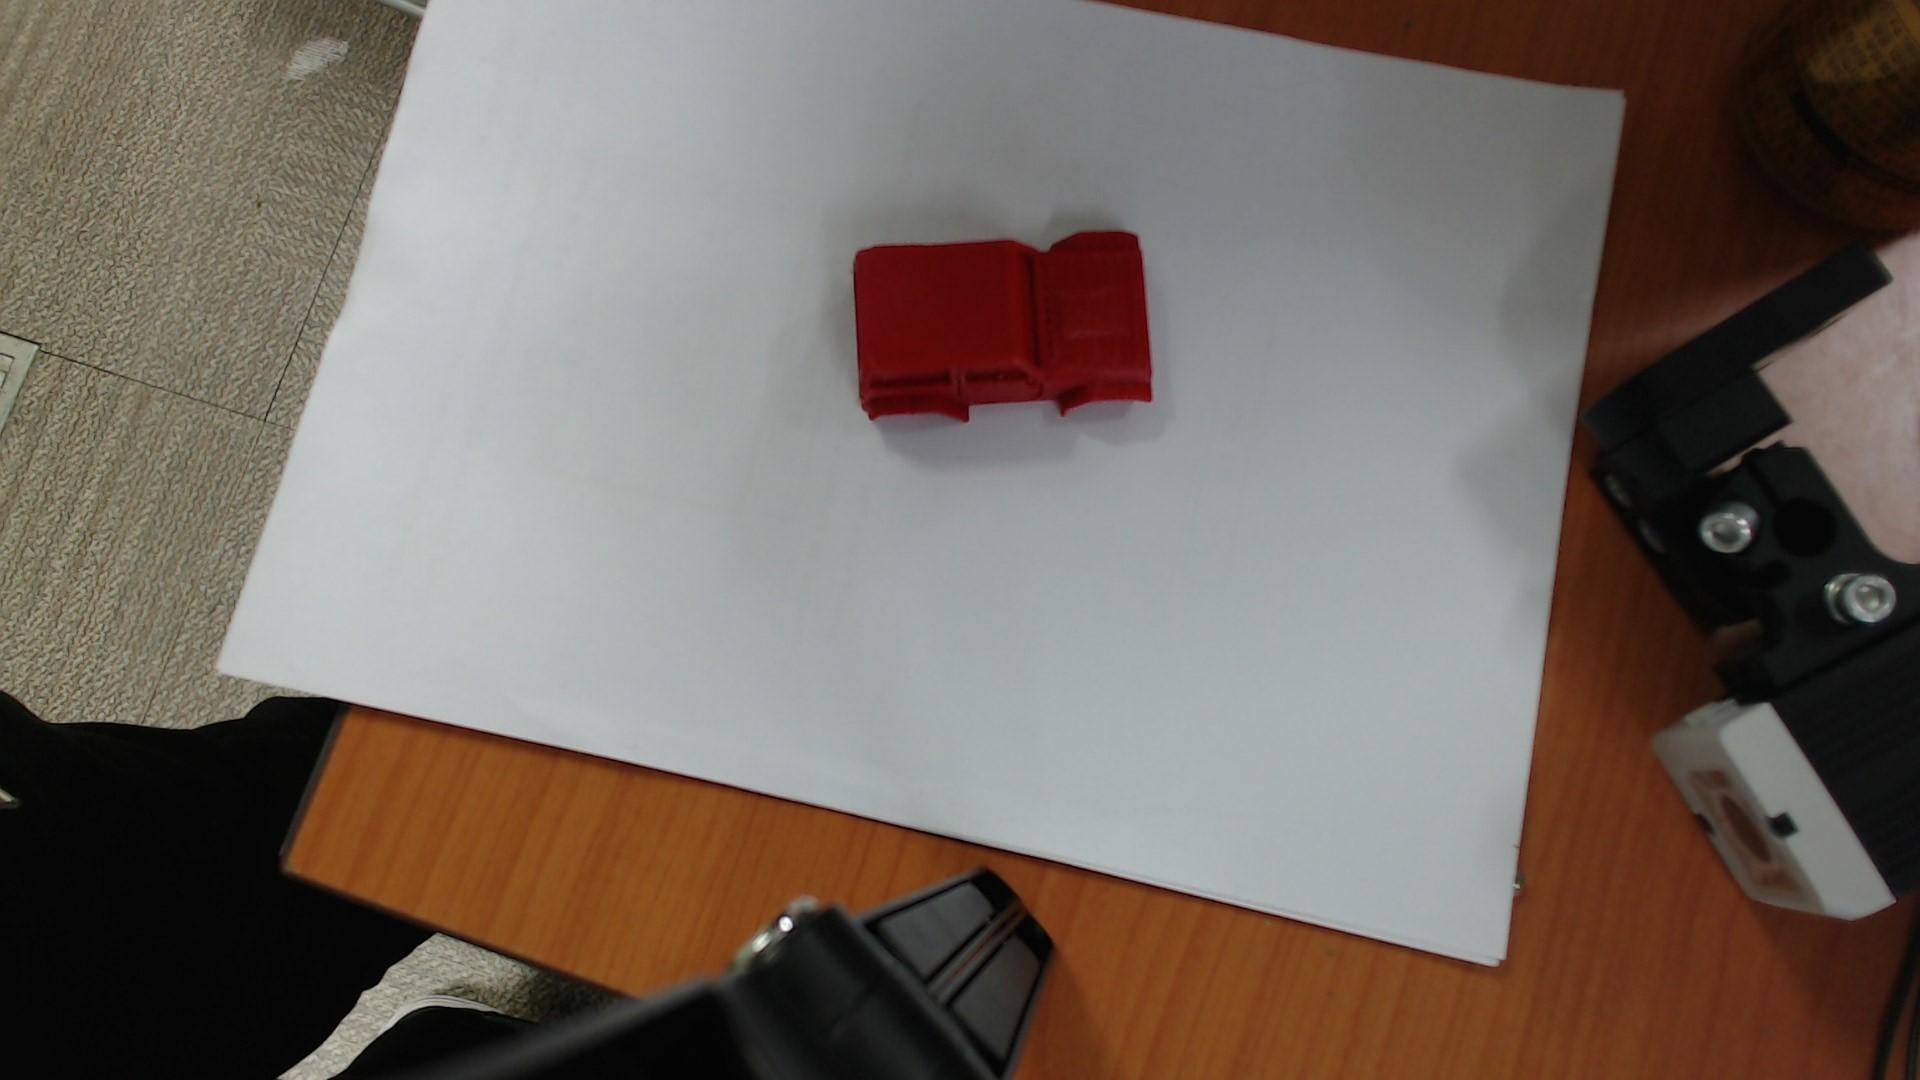Upper_ok: (855, 231, 1153, 421)
